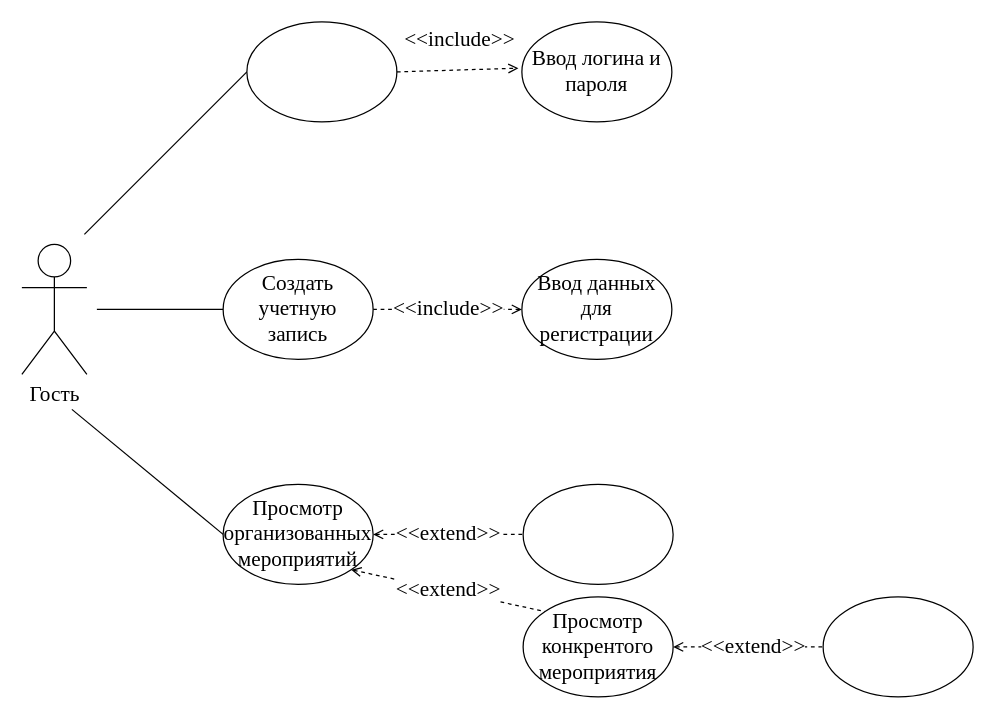
Image size: 995x719. Some labels were removed from this diagram. The shapes that lost their labels are listed below. From the top down, each one's centre as x and y in pixels, then its label:
pixel 321 71: Авторизоваться
pixel 597 533: Поиск по критериям
pixel 897 646: Просмотр страницы организатора
